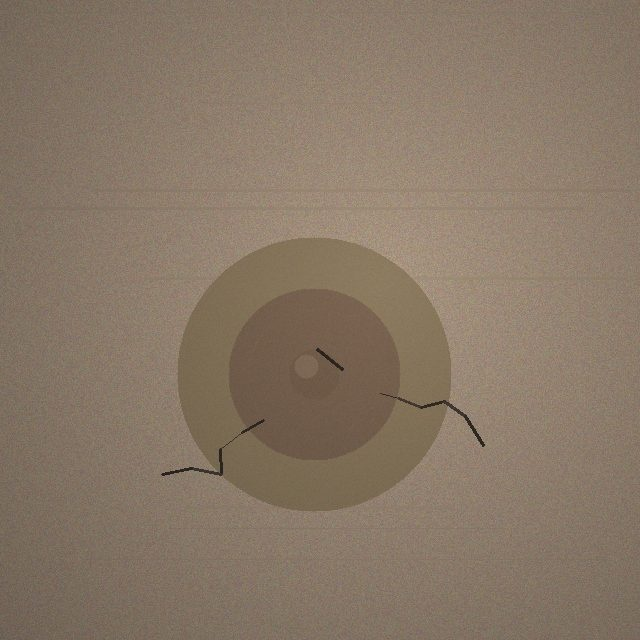crack: (177, 237, 451, 511)
